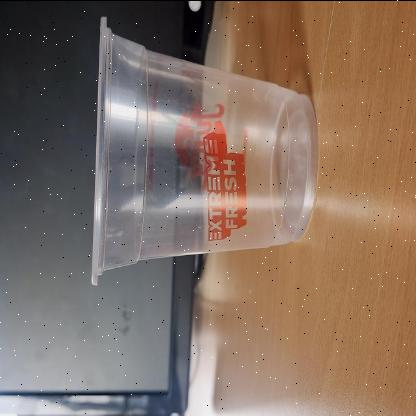Others: (88, 13, 320, 287)
